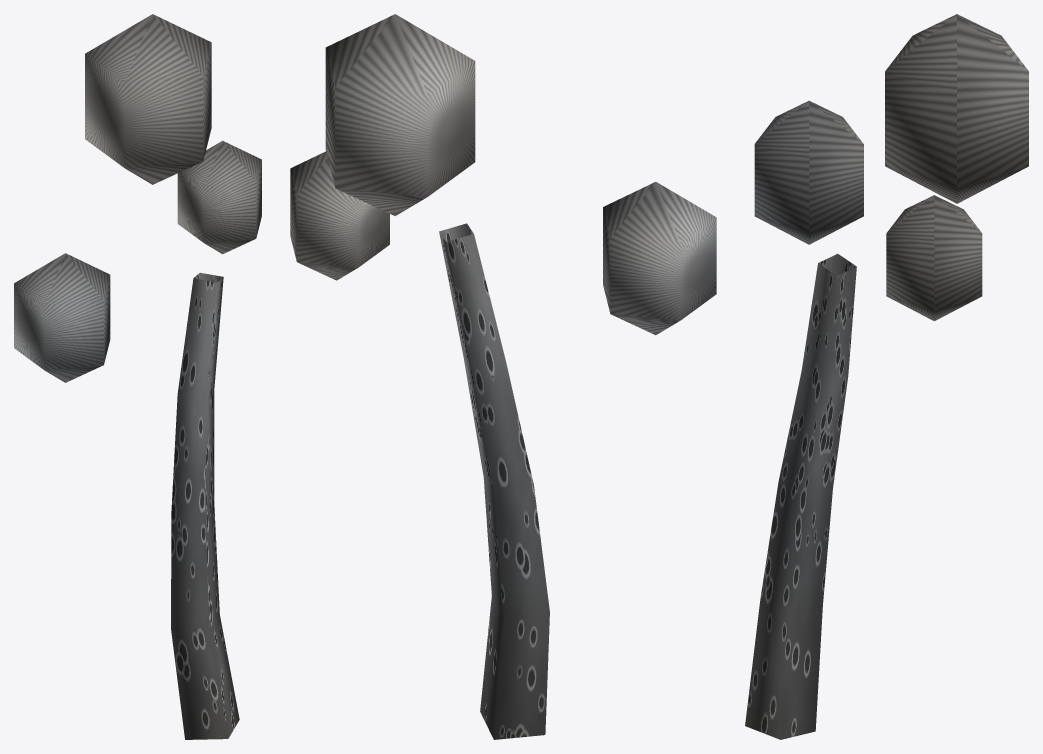
File: coral_tree_l2.gltf
3 views of the same model, side by side, from view 1: azimuth 30°, elevation 25°; view 2: azimuth 150°, elevation 25°; view 3: azimuth 270°, elevation 25° (orthographic). The views are drawn at different scales.
Parts seen in each view (by area): view 1: coral_tree_l2; view 2: coral_tree_l2; view 3: coral_tree_l2.
Boxes of the visible parts, x1=… form: coral_tree_l2: x1=14, y1=14, x2=261, y2=739; coral_tree_l2: x1=290, y1=14, x2=716, y2=739; coral_tree_l2: x1=745, y1=14, x2=1028, y2=739.
Bounding box in the file's own units: 1.46 × 3.18 × 1.12.
1 material, 1 textured.
